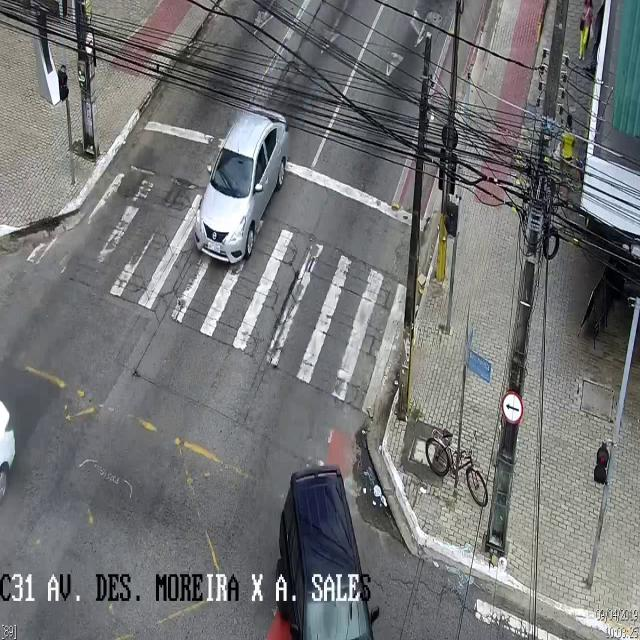Car: (280, 465, 380, 639), (193, 105, 288, 263)
